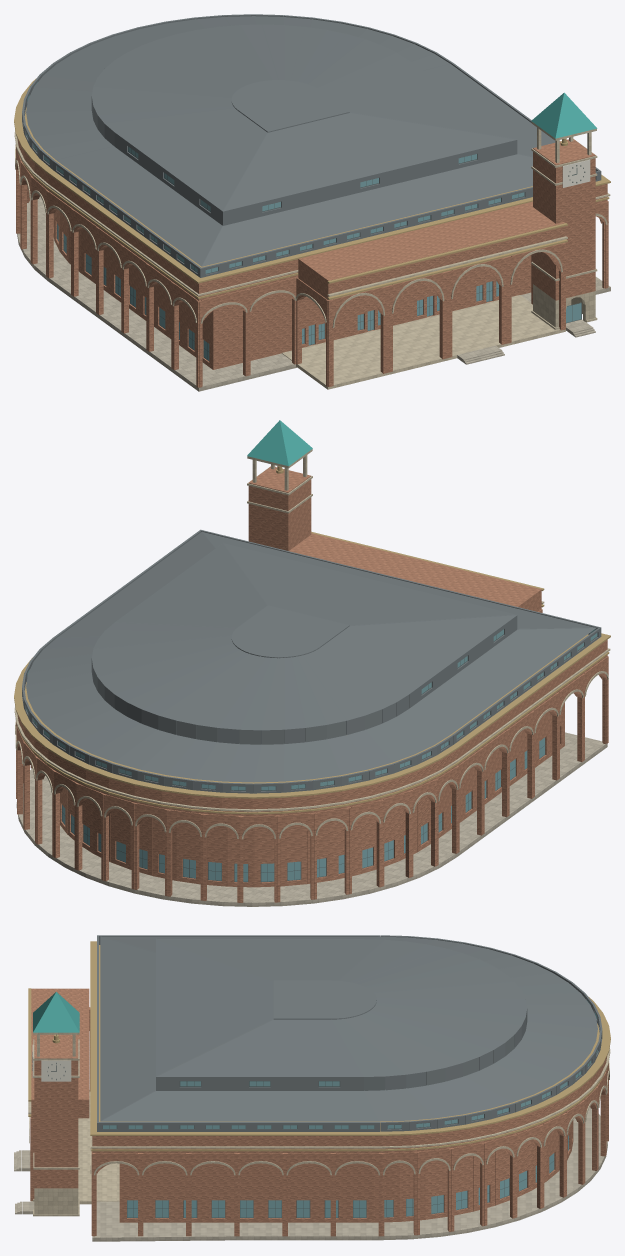
The picture shows the model from 3 angles, top to bottom: view 1: azimuth 30°, elevation 25°; view 2: azimuth 150°, elevation 25°; view 3: azimuth 270°, elevation 25°; orthographic projection. The views are drawn at different scales.
Visible parts, largest first — view 1: seonseung__roofcharcoal, seonseung__salmon, seonseung__sandstone, seonseung__goldline, seonseung__stone, seonseung__glass, seonseung__copper, seonseung__frame, seonseung__clock; view 2: seonseung__roofcharcoal, seonseung__salmon, seonseung__stone, seonseung__goldline, seonseung__sandstone, seonseung__glass, seonseung__frame, seonseung__copper; view 3: seonseung__roofcharcoal, seonseung__salmon, seonseung__stone, seonseung__sandstone, seonseung__goldline, seonseung__glass, seonseung__frame, seonseung__copper, seonseung__clock.
Part boxes in pixels (x1,y1,x2,y2): seonseung__roofcharcoal: [22, 14, 601, 277]; seonseung__salmon: [16, 138, 608, 387]; seonseung__sandstone: [14, 121, 610, 389]; seonseung__goldline: [14, 79, 610, 299]; seonseung__stone: [17, 196, 610, 391]; seonseung__glass: [26, 81, 581, 360]; seonseung__copper: [531, 92, 597, 138]; seonseung__frame: [26, 132, 581, 361]; seonseung__clock: [562, 159, 590, 187]; seonseung__roofcharcoal: [22, 529, 601, 793]; seonseung__salmon: [16, 466, 608, 902]; seonseung__stone: [16, 732, 607, 906]; seonseung__goldline: [14, 466, 610, 814]; seonseung__sandstone: [14, 449, 610, 839]; seonseung__glass: [26, 629, 597, 881]; seonseung__frame: [26, 633, 597, 882]; seonseung__copper: [247, 420, 312, 466]; seonseung__roofcharcoal: [97, 935, 602, 1131]; seonseung__salmon: [30, 988, 608, 1236]; seonseung__stone: [92, 1107, 607, 1241]; seonseung__sandstone: [28, 1032, 610, 1216]; seonseung__goldline: [28, 941, 610, 1151]; seonseung__glass: [103, 1000, 597, 1217]; seonseung__frame: [102, 1051, 597, 1217]; seonseung__copper: [33, 992, 79, 1032]; seonseung__clock: [32, 1045, 71, 1081].
Bounding box in the file's own units: 69.9 × 36.85 × 90.89.
Materials: 11 (3 with a texture image).
